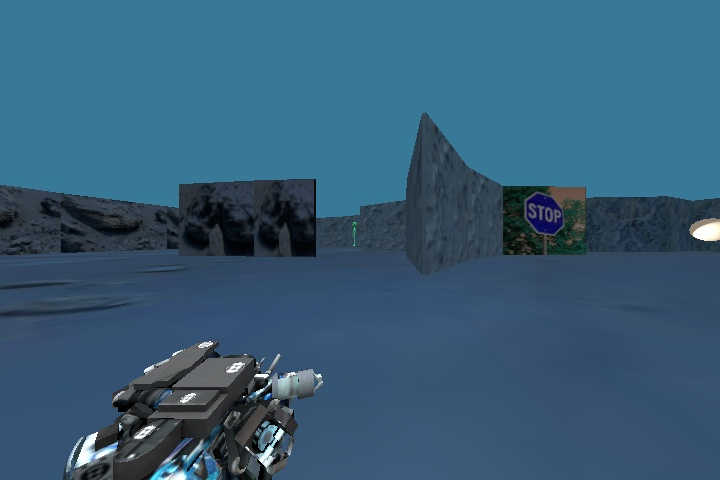green_alien: (344, 216, 362, 250)
stop_sign: (515, 185, 568, 242)
white_sphere: (685, 209, 720, 250)
